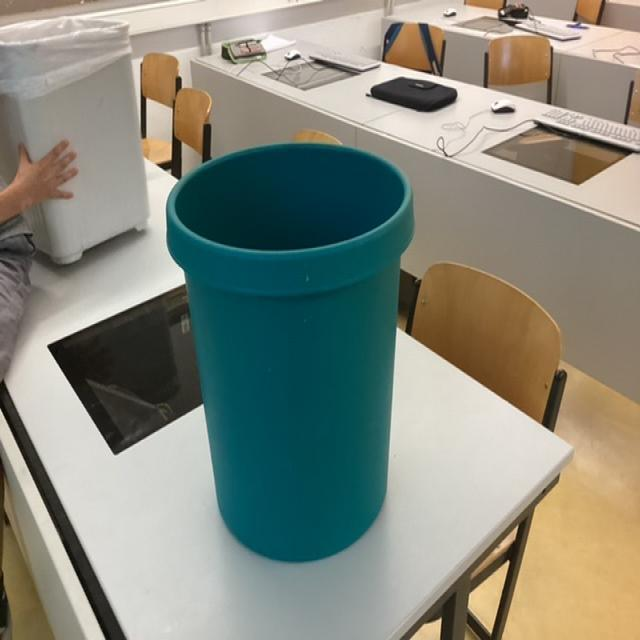garbage container: (147, 91, 416, 589)
